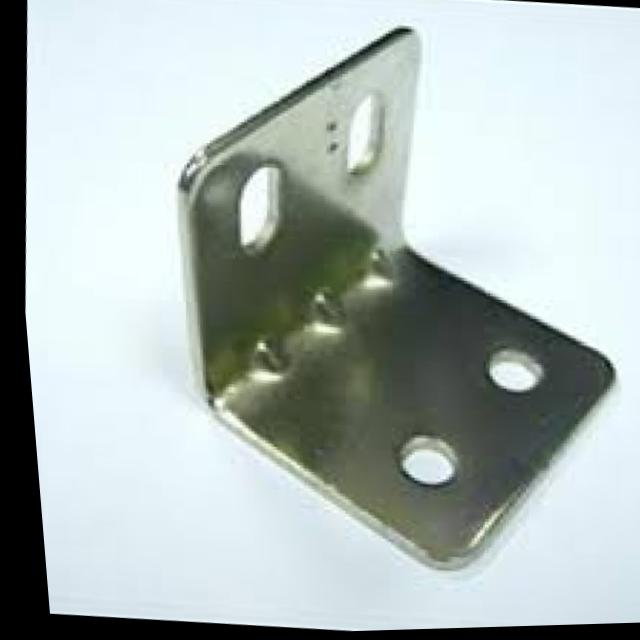holes: (230, 152, 284, 263), (337, 89, 385, 183), (391, 433, 452, 491), (479, 347, 540, 397)
